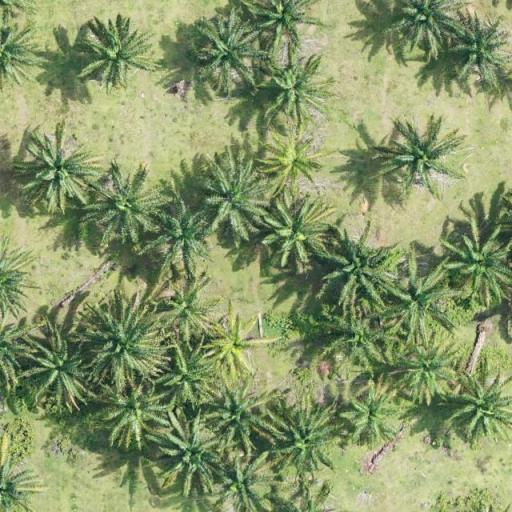Ganoderma: (266, 134, 319, 184), (205, 319, 257, 368)
